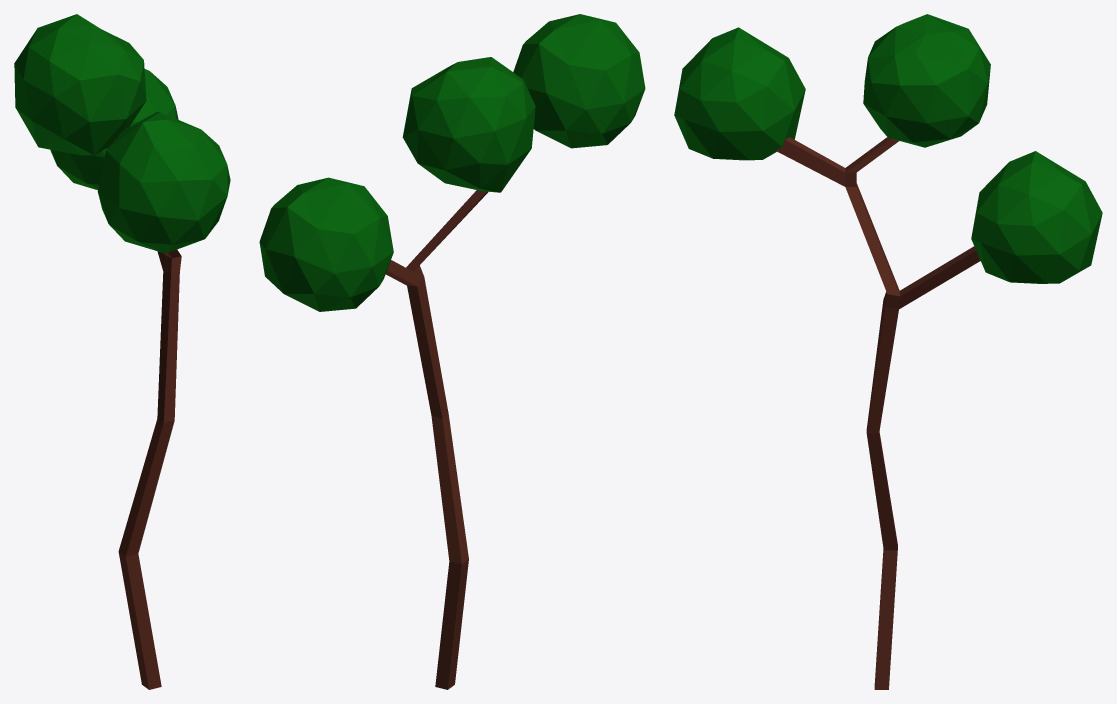
Rendered from TreeWack.fbx.
3 views of the same model, side by side, from view 1: azimuth 30°, elevation 25°; view 2: azimuth 150°, elevation 25°; view 3: azimuth 270°, elevation 25° (orthographic). The views are drawn at different scales.
Parts seen in each view (by area): view 1: Cube; view 2: Cube; view 3: Cube.
Boxes of the visible parts, box(x1,y1,x2,y2) form: Cube: box(14, 14, 230, 689); Cube: box(259, 14, 645, 689); Cube: box(674, 14, 1102, 689).
Bounding box in the file's own units: 3399 × 9995 × 6064.
